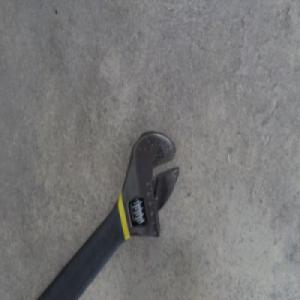AdjustableWrench: (39, 129, 182, 299)
